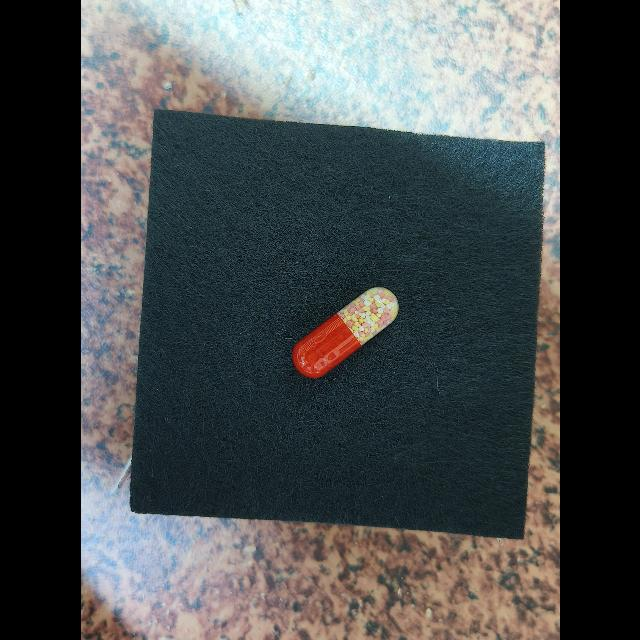Intact Capsule: (292, 287, 398, 378)
